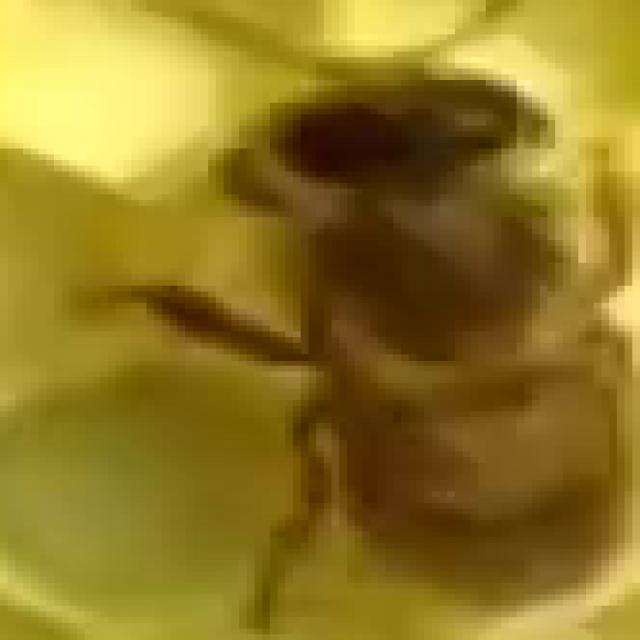honeybee: (164, 70, 631, 608)
